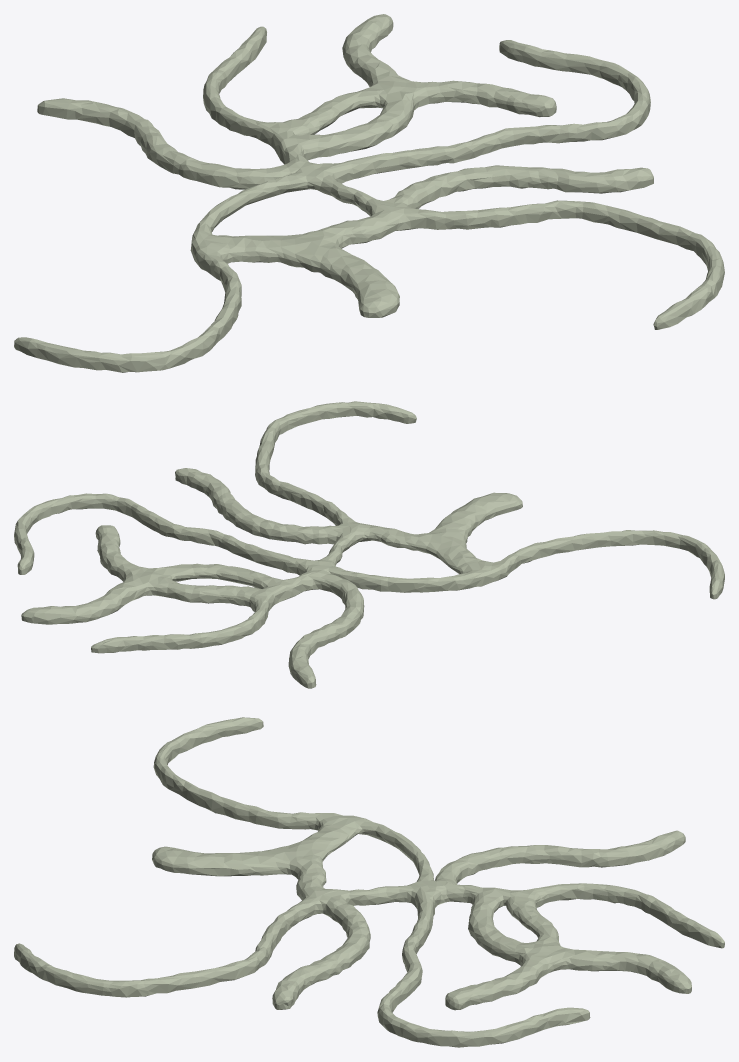
Rendered from cave.glb.
The picture shows the model from 3 angles, top to bottom: view 1: azimuth 30°, elevation 25°; view 2: azimuth 150°, elevation 25°; view 3: azimuth 270°, elevation 25°; orthographic projection. The views are drawn at different scales.
Visible parts, largest first — view 1: Cube; view 2: Cube; view 3: Cube.
Boxes of the visible parts, <box> form: Cube: <box>14,14,724,372</box>; Cube: <box>14,401,724,688</box>; Cube: <box>14,717,724,1047</box>.
Size of the model in its own units: 102 by 2.91 by 95.04.
